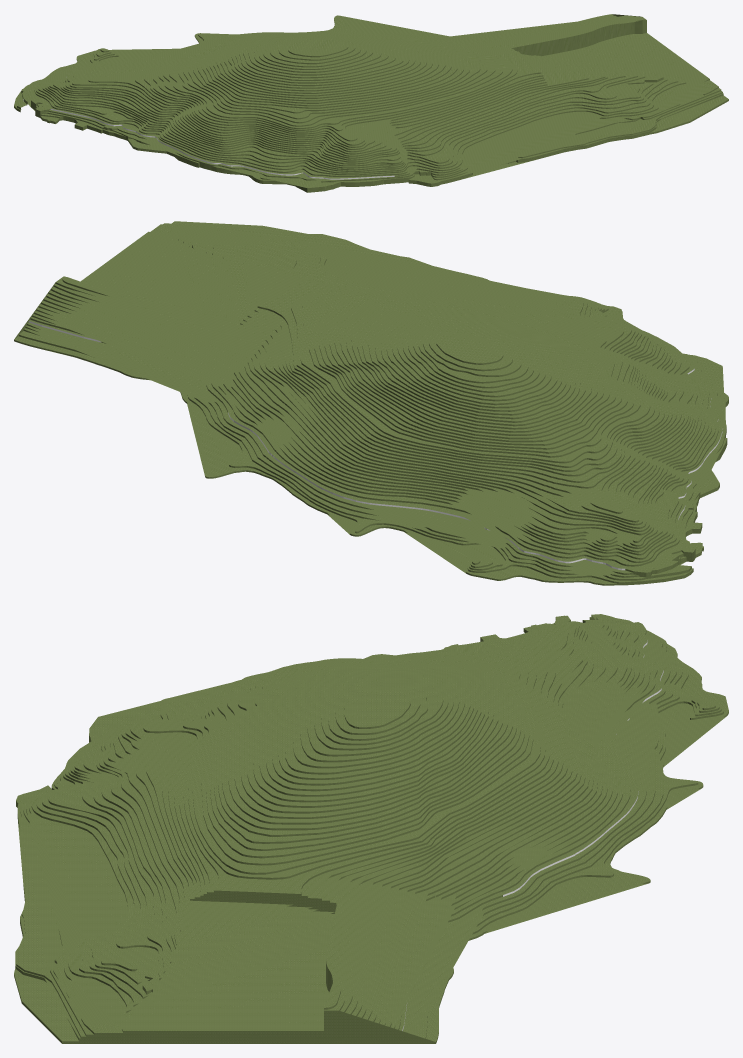
The model's file is MOUTAIN3.obj.
The picture shows the model from 3 angles, top to bottom: view 1: azimuth 30°, elevation 25°; view 2: azimuth 150°, elevation 25°; view 3: azimuth 270°, elevation 25°; orthographic projection. The views are drawn at different scales.
Parts seen in each view (by area): view 1: Mesh2 Group2 Model; view 2: Mesh2 Group2 Model; view 3: Mesh2 Group2 Model.
Boxes of the visible parts, <box> form: Mesh2 Group2 Model: <box>14,14,728,192</box>; Mesh2 Group2 Model: <box>14,221,728,585</box>; Mesh2 Group2 Model: <box>14,614,728,1043</box>.
Bounding box in the file's own units: 492121 × 50000 × 350918.
